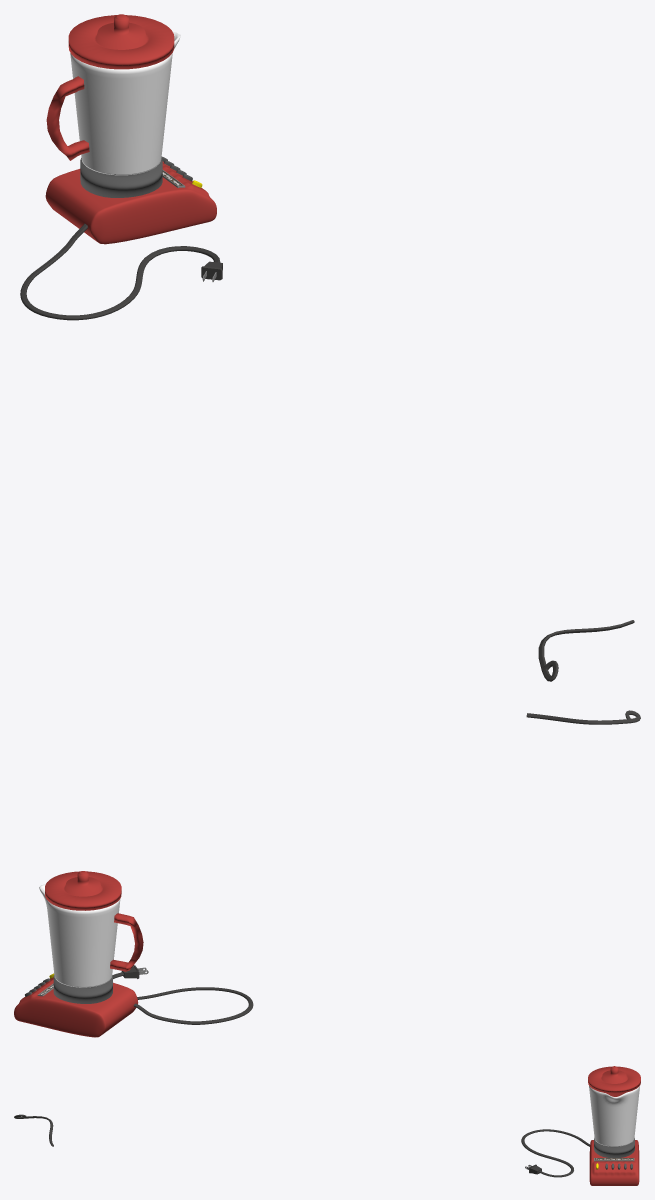
Rendered from Blender.fbx.
The picture shows the model from 3 angles, top to bottom: view 1: azimuth 30°, elevation 25°; view 2: azimuth 150°, elevation 25°; view 3: azimuth 270°, elevation 25°; orthographic projection. The views are drawn at different scales.
Parts seen in each view (by area): view 1: Cylinder.001, Cube.001, Cylinder.003, BezierCurve, Cylinder, Cylinder.002; view 2: Cylinder.001, Cube.001, Cylinder.003, BezierCurve, Cylinder, Cylinder.002; view 3: Cylinder.001, Cube.001, Cylinder.003, BezierCurve, Cylinder.
Part boxes in pixels (x1,y1,x2,y2): Cylinder.001: [70, 32, 180, 175]; Cube.001: [45, 161, 216, 244]; Cylinder.003: [68, 14, 174, 69]; BezierCurve: [20, 223, 634, 681]; Cylinder: [80, 158, 162, 197]; Cylinder.002: [46, 76, 89, 160]; Cylinder.001: [39, 884, 120, 987]; Cube.001: [14, 977, 138, 1037]; Cylinder.003: [45, 871, 121, 910]; BezierCurve: [112, 710, 640, 1024]; Cylinder: [53, 975, 112, 1003]; Cylinder.002: [110, 913, 143, 971]; Cylinder.001: [589, 1086, 639, 1146]; Cube.001: [589, 1140, 639, 1185]; Cylinder.003: [588, 1066, 640, 1096]; BezierCurve: [14, 1114, 589, 1177]; Cylinder: [594, 1138, 634, 1157].
Bounding box in the file's own units: 443 × 358 × 1973.
